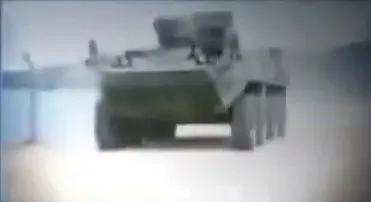MIL_IFV: (85, 7, 290, 152)
